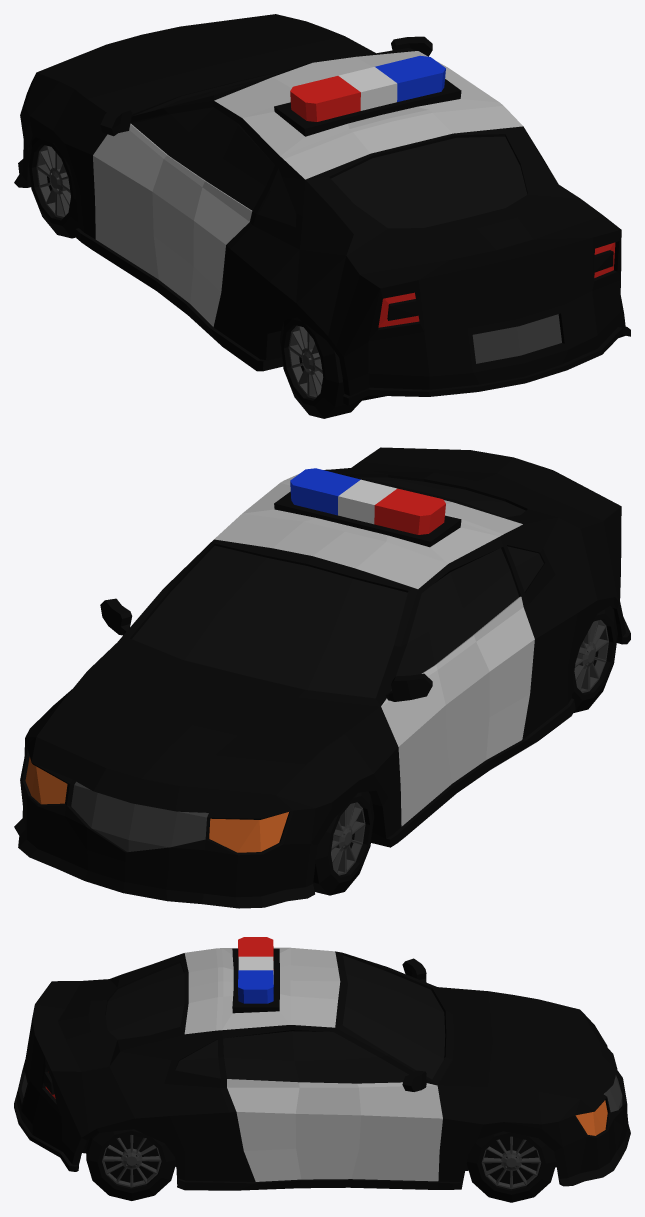
File: vehicles.glb
The picture shows the model from 3 angles, top to bottom: view 1: azimuth 30°, elevation 25°; view 2: azimuth 150°, elevation 25°; view 3: azimuth 270°, elevation 25°; orthographic projection. The views are drawn at different scales.
Visible parts, largest first — view 1: Cop, Cop_BackWheels, Cop_FrontLeftWheel; view 2: Cop, Cop_FrontLeftWheel, Cop_BackWheels; view 3: Cop, Cop_BackWheels, Cop_FrontRightWheel.
Boxes of the visible parts, left/top/right/bottom form: Cop: left=14, top=14, right=630, bottom=405; Cop_BackWheels: left=280, top=317, right=361, bottom=418; Cop_FrontLeftWheel: left=27, top=137, right=78, bottom=238; Cop: left=14, top=447, right=630, bottom=908; Cop_FrontLeftWheel: left=313, top=791, right=374, bottom=895; Cop_BackWheels: left=571, top=606, right=617, bottom=712; Cop: left=14, top=937, right=630, bottom=1190; Cop_BackWheels: left=86, top=1129, right=175, bottom=1200; Cop_FrontRightWheel: left=466, top=1131, right=556, bottom=1202.
Bounding box in the file's own units: 178 × 124 × 373.
